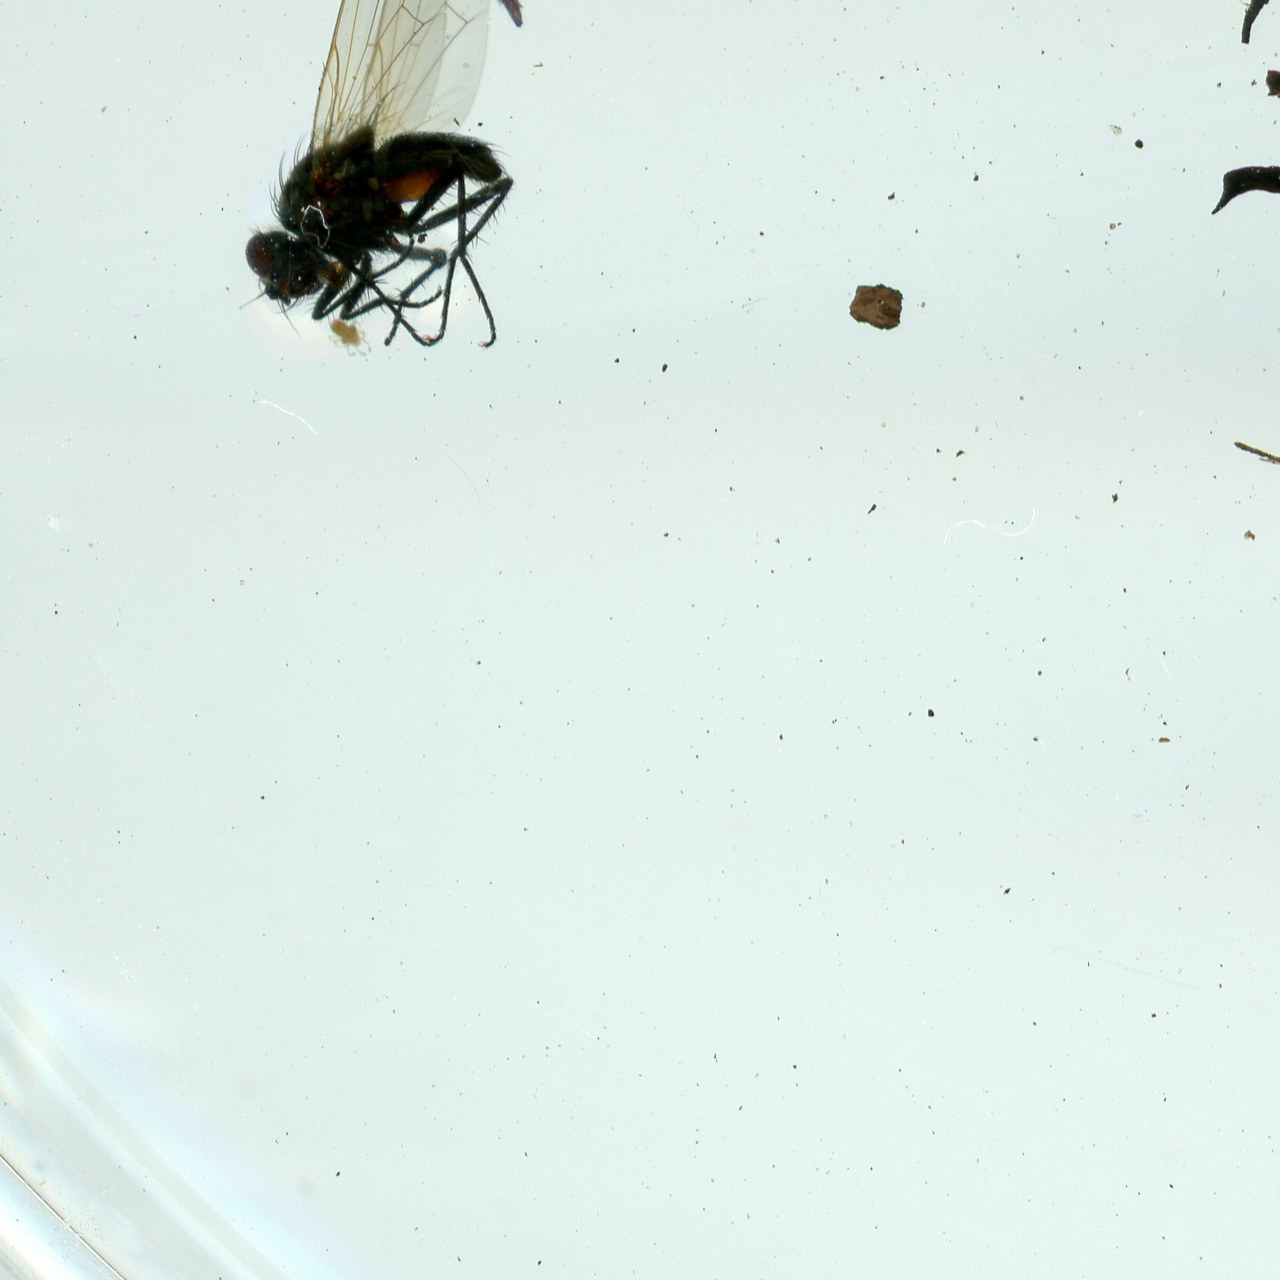arthropod: (229, 0, 525, 355), (324, 313, 376, 361), (481, 0, 536, 36)
